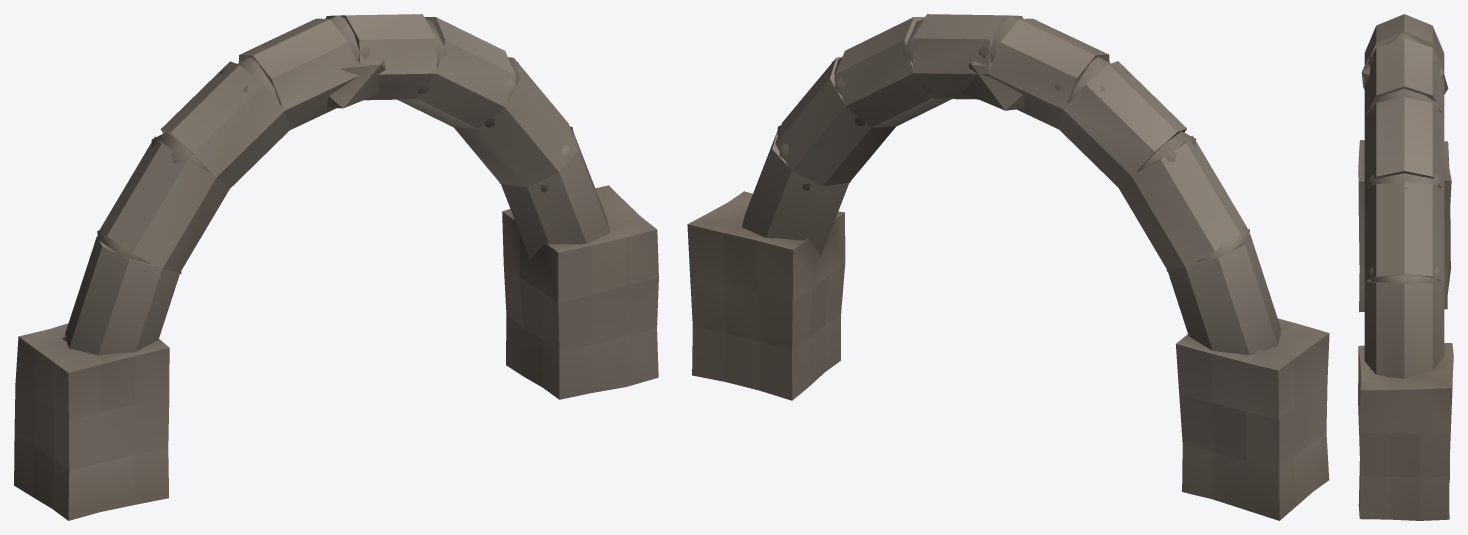
File: rock_arch_cave.0899ca6f.glb
The picture shows the model from 3 angles, left to right: view 1: azimuth 30°, elevation 25°; view 2: azimuth 150°, elevation 25°; view 3: azimuth 270°, elevation 25°; orthographic projection. The views are drawn at different scales.
Visible parts, largest first — view 1: rock_arch_cave; view 2: rock_arch_cave; view 3: rock_arch_cave.
Part boxes in pixels (box(x1,y1,x2,y2)): rock_arch_cave: box(14, 14, 658, 520); rock_arch_cave: box(687, 14, 1329, 520); rock_arch_cave: box(1358, 14, 1453, 520).
Size of the model in its own units: 4.5 by 3.01 by 0.7204.
